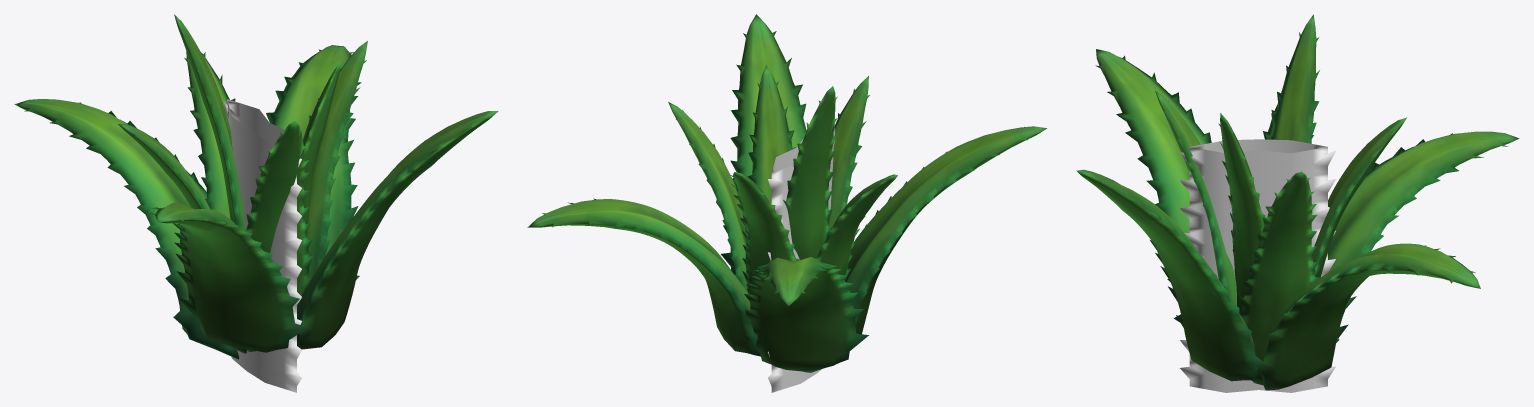
File: ALOE.fbx
3 renders of one model, left to right at view 1: azimuth 30°, elevation 25°; view 2: azimuth 150°, elevation 25°; view 3: azimuth 270°, elevation 25°, orthographic. The views are drawn at different scales.
Visible parts, largest first — view 1: AloeLıf.001, AloeLıf.002, AloeLıf.004, AloeLıf, AloeLıf.003, AloeLıf.006, AloeLıf.008, AloeLıf.005, AloeLıf.007, AloeLıf.010, AloeLıf.009; view 2: AloeLıf.002, AloeLıf.003, AloeLıf.001, AloeLıf.005, AloeLıf.004, AloeLıf.007, AloeLıf.008, AloeLıf.009, AloeLıf.006, AloeLıf.010, AloeLıf; view 3: AloeLıf, AloeLıf.003, AloeLıf.004, AloeLıf.002, AloeLıf.008, AloeLıf.001, AloeLıf.009, AloeLıf.005, AloeLıf.007, AloeLıf.006.
Boxes of the visible parts, x1=… form: AloeLıf.001: x1=150, y1=202, x2=307, y2=352; AloeLıf.002: x1=14, y1=99, x2=239, y2=359; AloeLıf.004: x1=297, y1=111, x2=498, y2=349; AloeLıf: x1=223, y1=99, x2=301, y2=392; AloeLıf.003: x1=266, y1=45, x2=361, y2=279; AloeLıf.006: x1=246, y1=121, x2=313, y2=352; AloeLıf.008: x1=307, y1=41, x2=367, y2=278; AloeLıf.005: x1=174, y1=14, x2=245, y2=230; AloeLıf.007: x1=184, y1=51, x2=235, y2=218; AloeLıf.010: x1=118, y1=124, x2=247, y2=353; AloeLıf.009: x1=303, y1=61, x2=341, y2=232; AloeLıf.002: x1=741, y1=257, x2=868, y2=372; AloeLıf.003: x1=527, y1=198, x2=760, y2=356; AloeLıf.001: x1=846, y1=126, x2=1046, y2=334; AloeLıf.005: x1=783, y1=86, x2=837, y2=259; AloeLıf.004: x1=721, y1=14, x2=806, y2=274; AloeLıf.007: x1=730, y1=172, x2=800, y2=294; AloeLıf.008: x1=668, y1=102, x2=747, y2=291; AloeLıf.009: x1=747, y1=65, x2=796, y2=203; AloeLıf.006: x1=829, y1=76, x2=869, y2=227; AloeLıf.010: x1=816, y1=174, x2=897, y2=281; AloeLıf: x1=768, y1=126, x2=835, y2=392; AloeLıf: x1=1180, y1=139, x2=1335, y2=392; AloeLıf.003: x1=1256, y1=243, x2=1480, y2=390; AloeLıf.004: x1=1076, y1=169, x2=1262, y2=381; AloeLıf.002: x1=1328, y1=131, x2=1519, y2=342; AloeLıf.008: x1=1239, y1=171, x2=1319, y2=385; AloeLıf.001: x1=1095, y1=49, x2=1211, y2=322; AloeLıf.009: x1=1218, y1=113, x2=1265, y2=315; AloeLıf.005: x1=1270, y1=14, x2=1319, y2=143; AloeLıf.007: x1=1312, y1=117, x2=1406, y2=277; AloeLıf.006: x1=1155, y1=91, x2=1236, y2=306.
Bounding box in the file's own units: 624 × 549 × 642.
